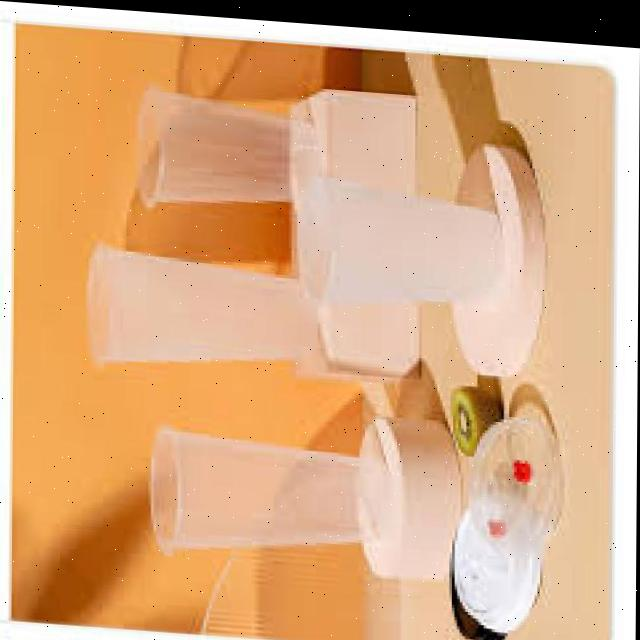cup: (152, 425, 360, 551), (88, 242, 308, 360), (295, 172, 501, 292), (139, 91, 291, 203)
